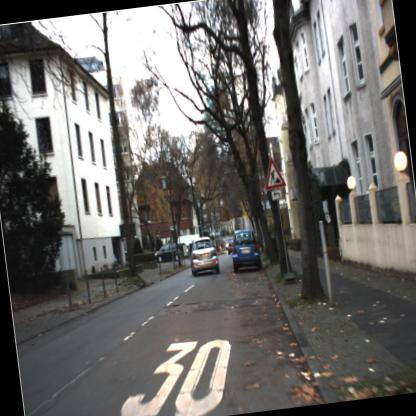danger: (258, 158, 286, 190)
